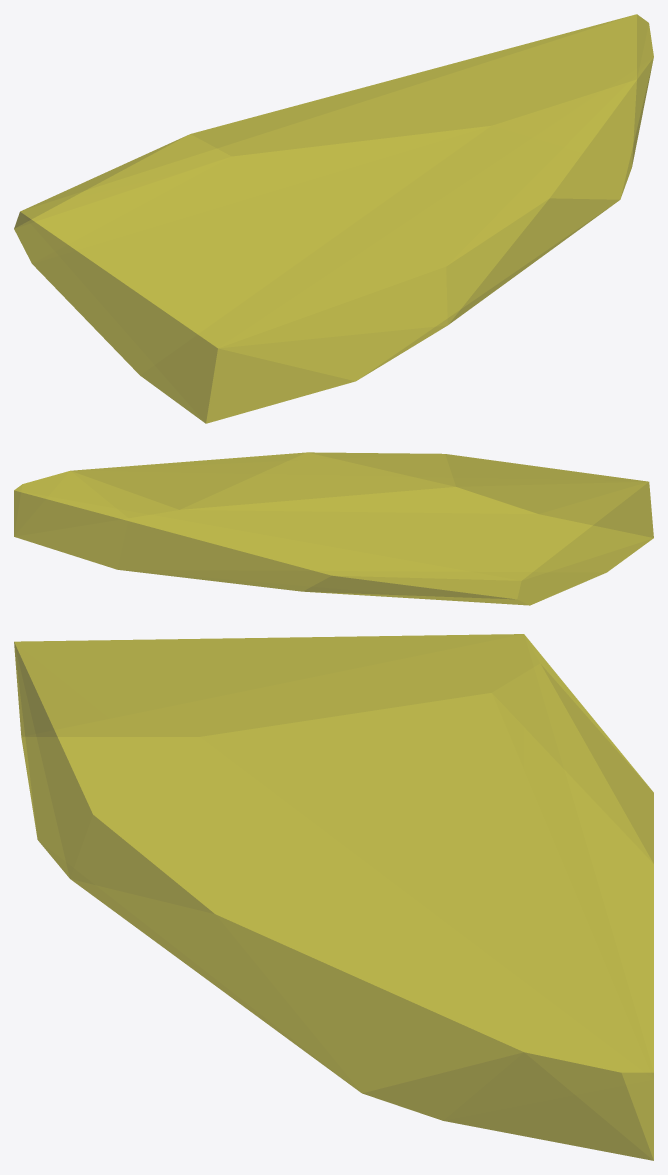
3 views of the same model, one above another, from view 1: azimuth 30°, elevation 25°; view 2: azimuth 150°, elevation 25°; view 3: azimuth 270°, elevation 25° (orthographic). The views are drawn at different scales.
Visible parts, largest first — view 1: Shape_IndexedFaceSet.027_Shape_IndexedFaceSet.5703; view 2: Shape_IndexedFaceSet.027_Shape_IndexedFaceSet.5703; view 3: Shape_IndexedFaceSet.027_Shape_IndexedFaceSet.5703.
Boxes of the visible parts, x1=… form: Shape_IndexedFaceSet.027_Shape_IndexedFaceSet.5703: x1=14, y1=14, x2=653, y2=423; Shape_IndexedFaceSet.027_Shape_IndexedFaceSet.5703: x1=14, y1=452, x2=653, y2=605; Shape_IndexedFaceSet.027_Shape_IndexedFaceSet.5703: x1=14, y1=634, x2=653, y2=1160.
Bounding box in the file's own units: 0.2021 × 0.0221 × 0.1246.
